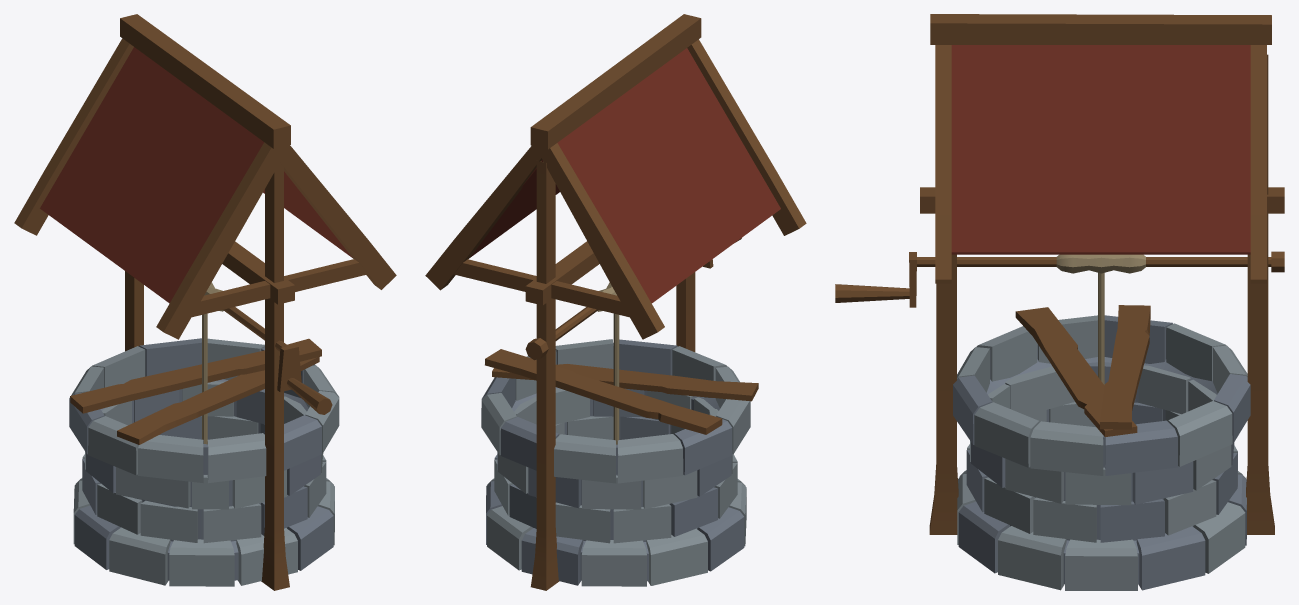
The model's file is Well.fbx.
3 renders of one model, left to right at view 1: azimuth 30°, elevation 25°; view 2: azimuth 150°, elevation 25°; view 3: azimuth 270°, elevation 25°, orthographic. The views are drawn at different scales.
Parts seen in each view (by area): view 1: Well, Gazebo; view 2: Well, Gazebo; view 3: Well, Gazebo.
Boxes of the visible parts, x1=… form: Well: x1=69, y1=163, x2=339, y2=590; Gazebo: x1=14, y1=14, x2=396, y2=339; Well: x1=481, y1=161, x2=758, y2=590; Gazebo: x1=425, y1=14, x2=806, y2=339; Well: x1=835, y1=54, x2=1284, y2=590; Gazebo: x1=930, y1=14, x2=1271, y2=283.
Bounding box in the file's own units: 66.64 × 125 × 99.22.
